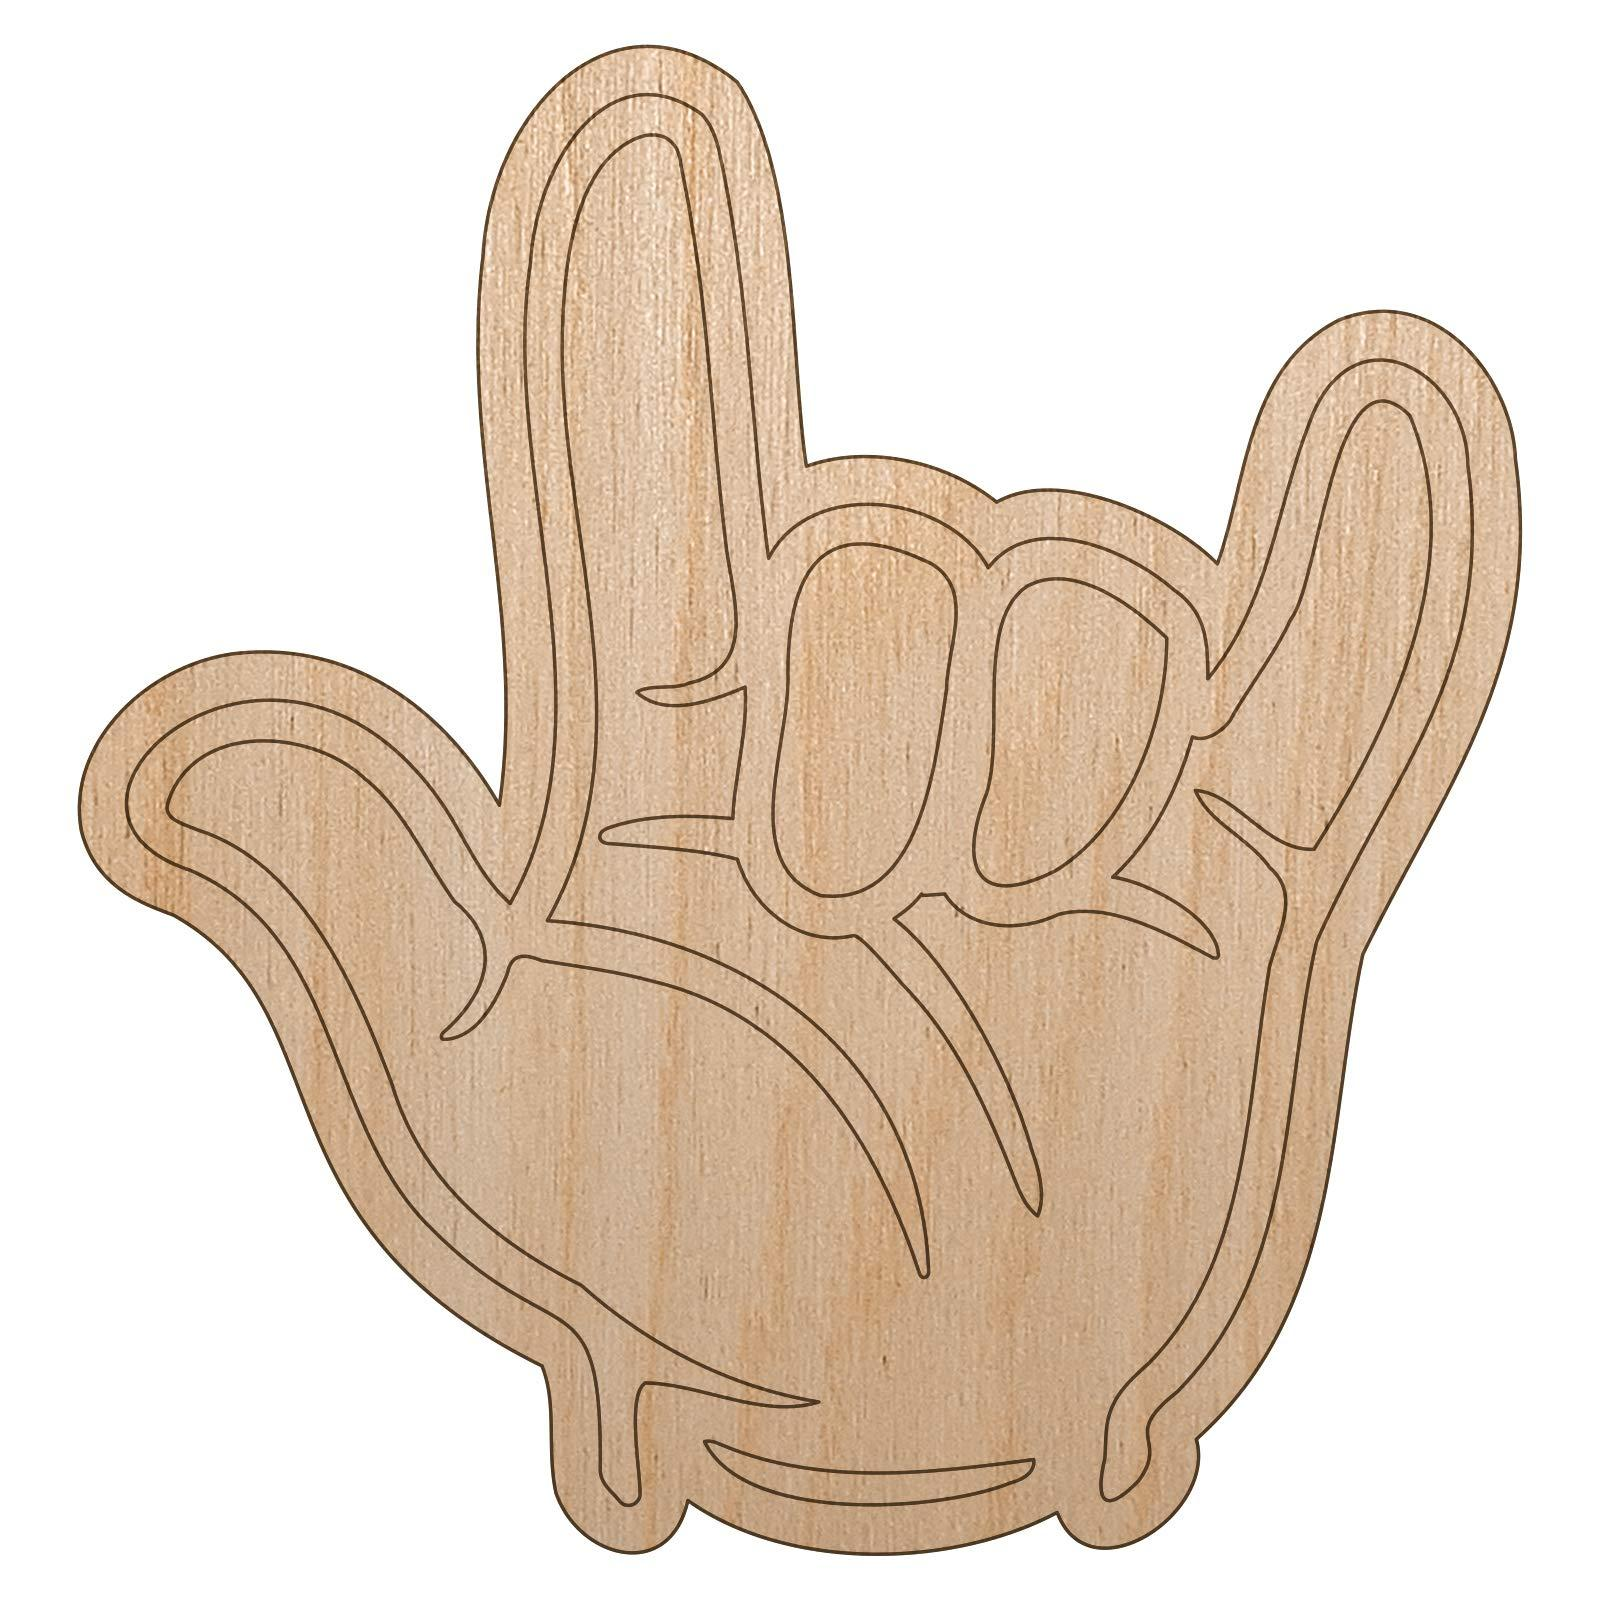Love_you: (41, 23, 1524, 1582)
